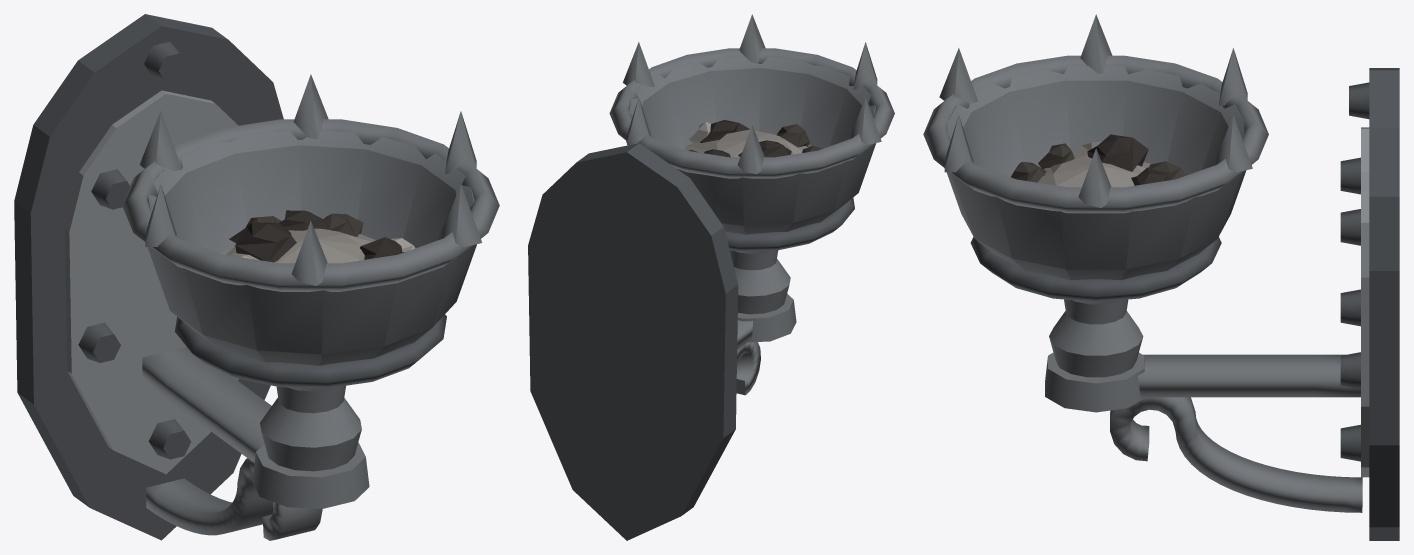
Rendered from SM_LPD_Light_SconceIronUnlit_01.fbx.
The picture shows the model from 3 angles, left to right: view 1: azimuth 30°, elevation 25°; view 2: azimuth 150°, elevation 25°; view 3: azimuth 270°, elevation 25°; orthographic projection. The views are drawn at different scales.
Visible parts, largest first — view 1: SM_LPD_Light_SconceIronUnlit_01; view 2: SM_LPD_Light_SconceIronUnlit_01; view 3: SM_LPD_Light_SconceIronUnlit_01.
Part boxes in pixels (<box>): SM_LPD_Light_SconceIronUnlit_01: <box>14,14,499,540</box>; SM_LPD_Light_SconceIronUnlit_01: <box>528,14,894,540</box>; SM_LPD_Light_SconceIronUnlit_01: <box>923,14,1399,540</box>.
Size of the model in its own units: 0.2112 by 0.308 by 0.2825.
